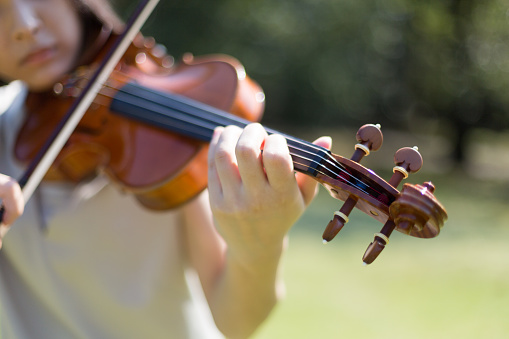em pe: (0, 3, 368, 339)
